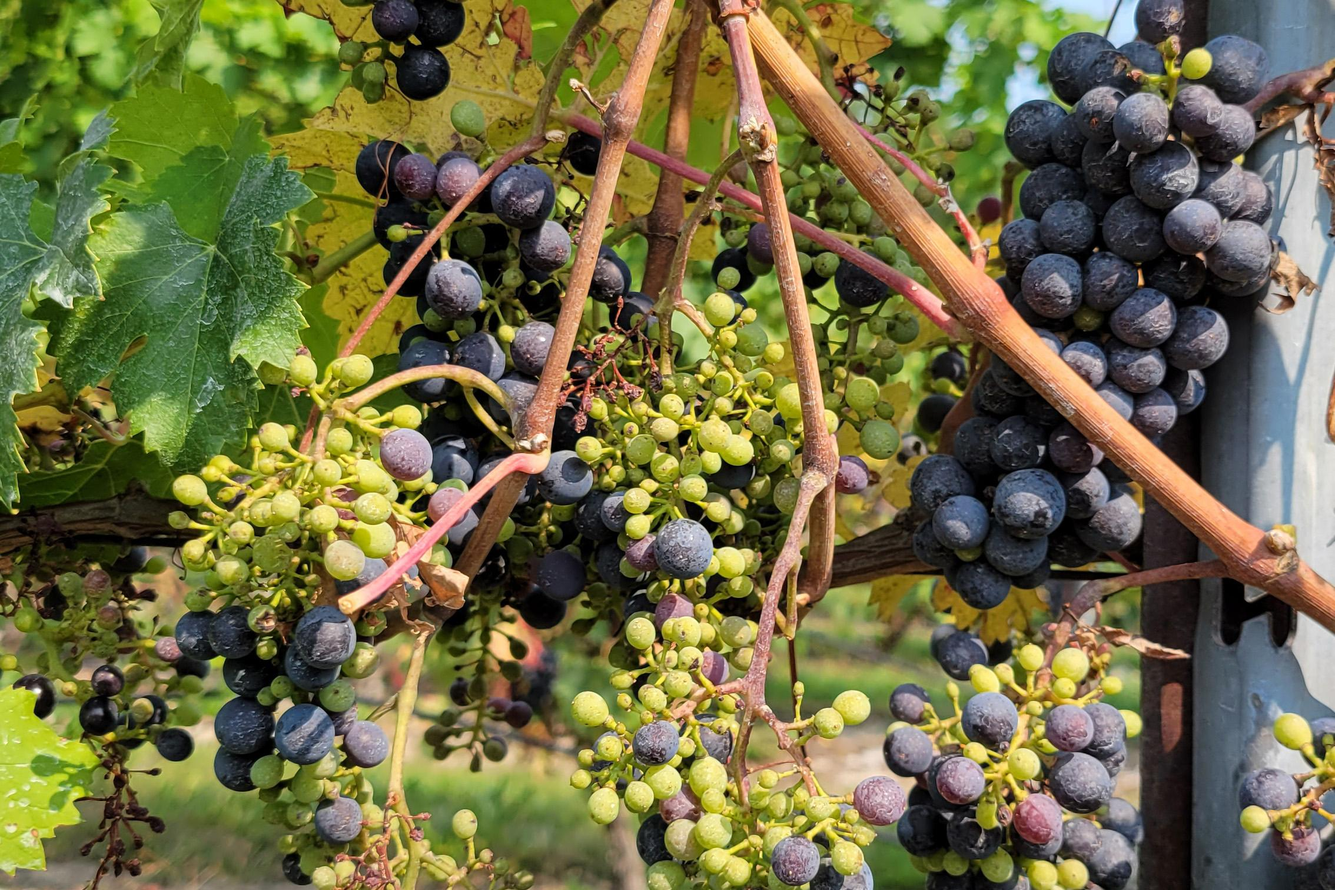Grape Ripe: (913, 0, 1293, 601), (352, 126, 598, 613)
Grape Unripe: (590, 325, 909, 887), (167, 428, 442, 890), (888, 603, 1163, 890)
